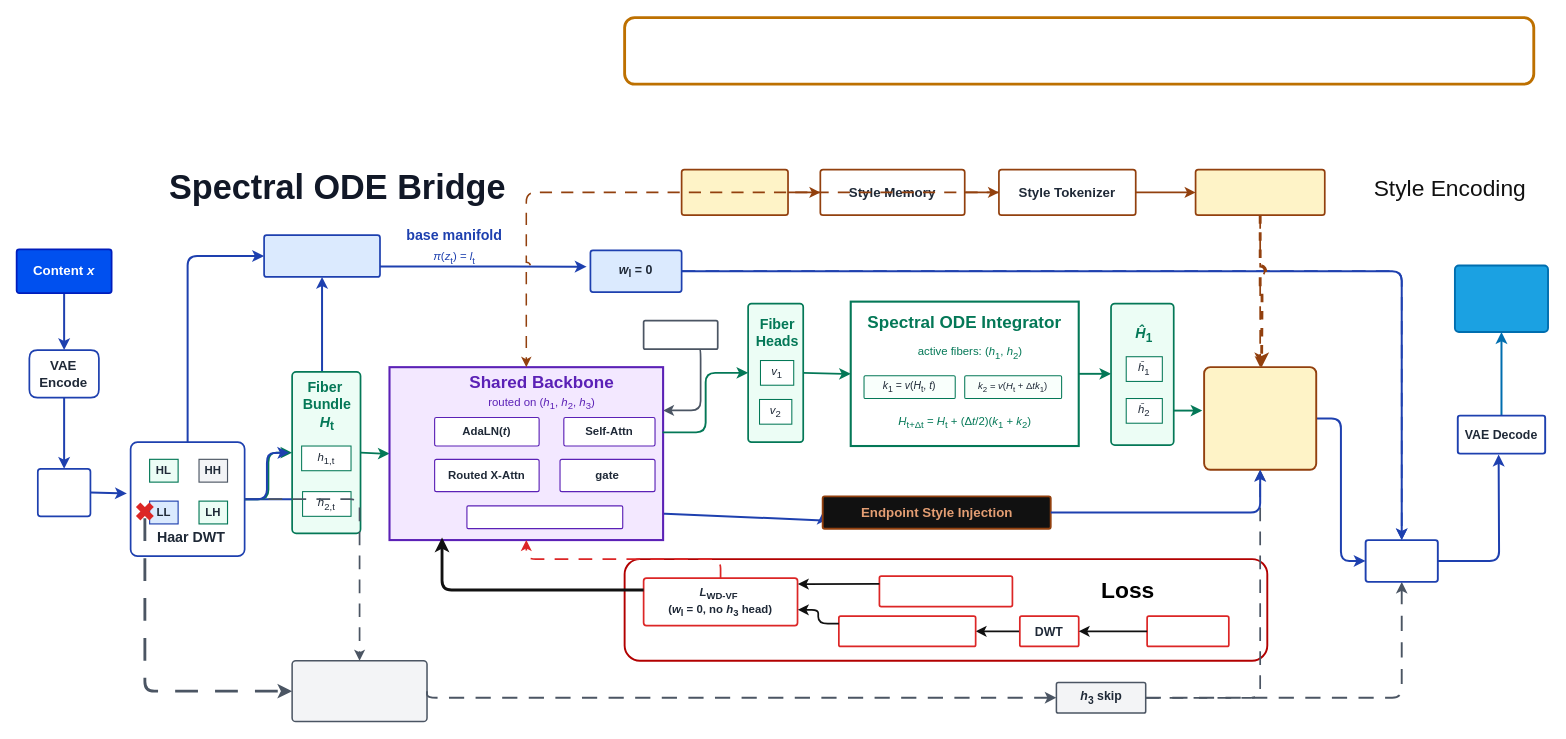
This 1566x739 diagram has some shape labels left out. The box of each missing label's shape, as (x1, y1, x2, y2) in pixels:
FFN + Res: (466, 505, 623, 529)
Fiber WCT T 1 , T 2 , T 3 l fixed: (1203, 366, 1317, 470)
h 3,t endpoint-only fiber: (291, 659, 427, 722)
iDWT: (1364, 539, 1438, 582)
l t (LL): (263, 234, 380, 277)
latent z 0: (36, 467, 91, 517)
Mix x t: (1146, 615, 1229, 647)
output x̂: (1454, 264, 1548, 332)
Predict ( v 1 , v 2 ): (838, 615, 976, 647)
style code c s: (1194, 168, 1325, 216)
Style ID s: (680, 168, 788, 216)
Target ( u 1 , u 2 ): (878, 575, 1013, 607)
time t: (642, 319, 718, 350)
